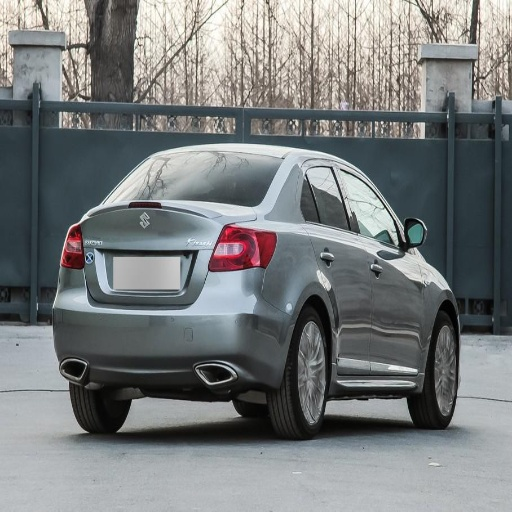back_bumper: (54, 267, 297, 395)
back_right_door: (302, 158, 371, 376)
